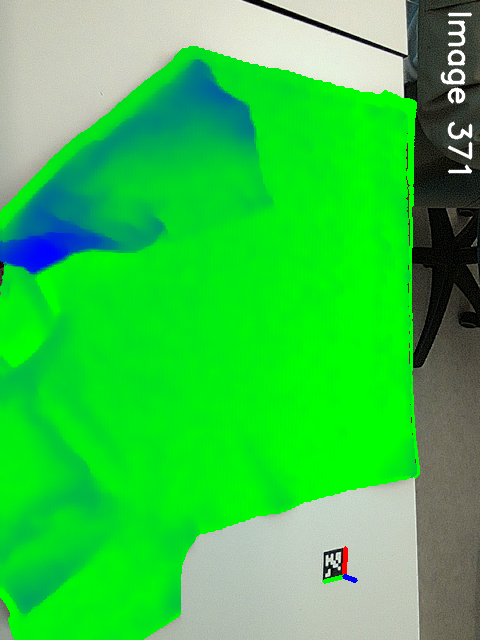V: (229, 175, 296, 219)
